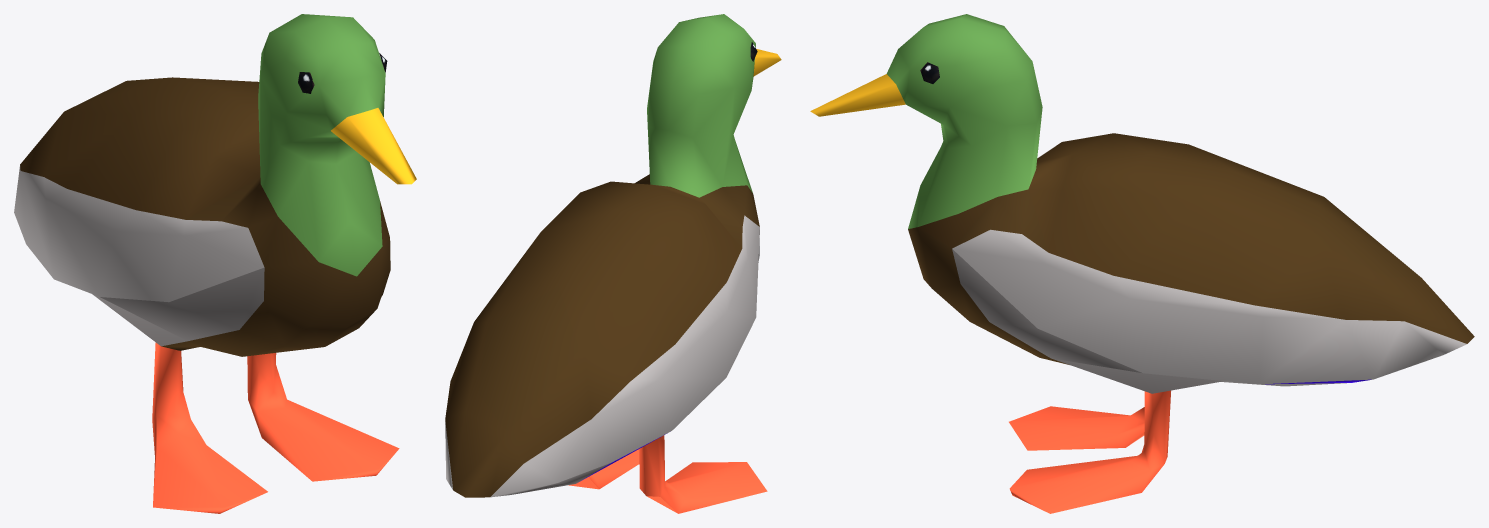
Rendered from Duck.glb.
The picture shows the model from 3 angles, left to right: view 1: azimuth 30°, elevation 25°; view 2: azimuth 150°, elevation 25°; view 3: azimuth 270°, elevation 25°; orthographic projection. The views are drawn at different scales.
Visible parts, largest first — view 1: Duck; view 2: Duck; view 3: Duck.
Boxes of the visible parts, x1,y1,x2,y2 form: Duck: (14,14,416,513); Duck: (445,14,781,513); Duck: (810,14,1474,513).
Size of what is drawn, in the model's own units: 0.3219 by 0.6169 by 0.8387.
Materials: 1 (1 with a texture image).
